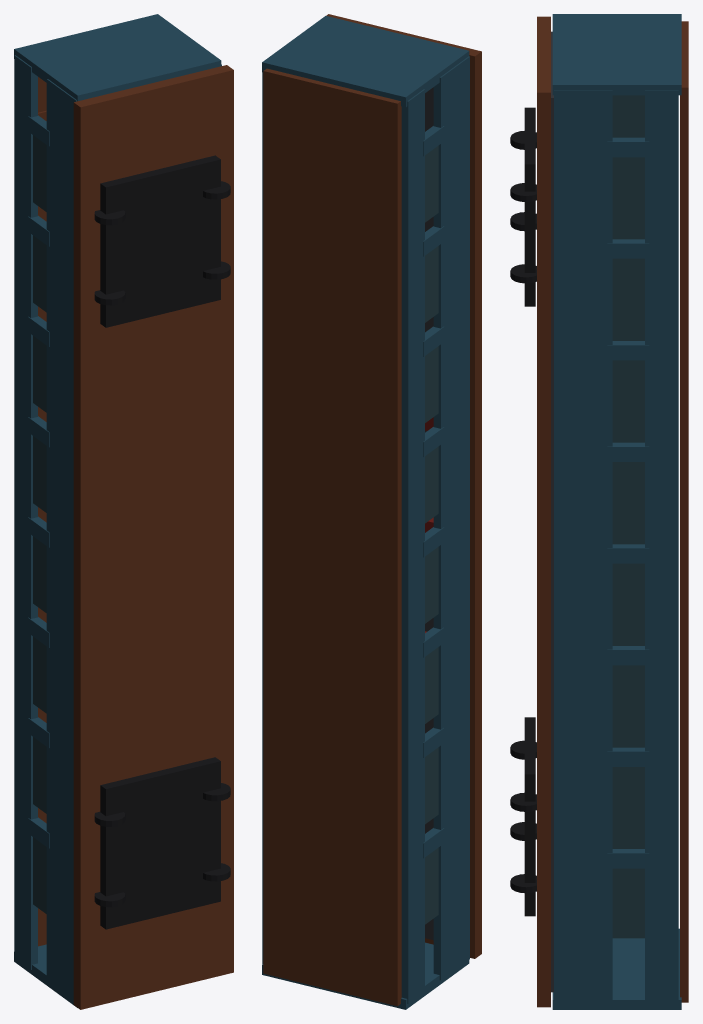
Rendered from train_carriage.obj.
3 views of the same model, side by side, from view 1: azimuth 30°, elevation 25°; view 2: azimuth 150°, elevation 25°; view 3: azimuth 270°, elevation 25° (orthographic).
Parts seen in each view (by area): view 1: Abandoned_Train_Carriage; view 2: Abandoned_Train_Carriage; view 3: Abandoned_Train_Carriage.
Boxes of the visible parts, box(x1,y1,x2,y2) form: Abandoned_Train_Carriage: box(14, 14, 233, 1009); Abandoned_Train_Carriage: box(262, 14, 481, 1009); Abandoned_Train_Carriage: box(510, 14, 688, 1009).
Size of the model in its own units: 3.2 by 18.2 by 3.17.
